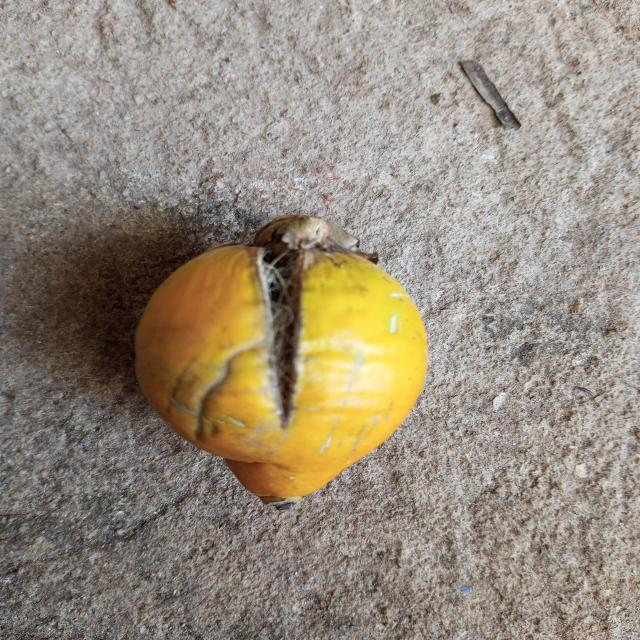damaged: (134, 216, 429, 505)
